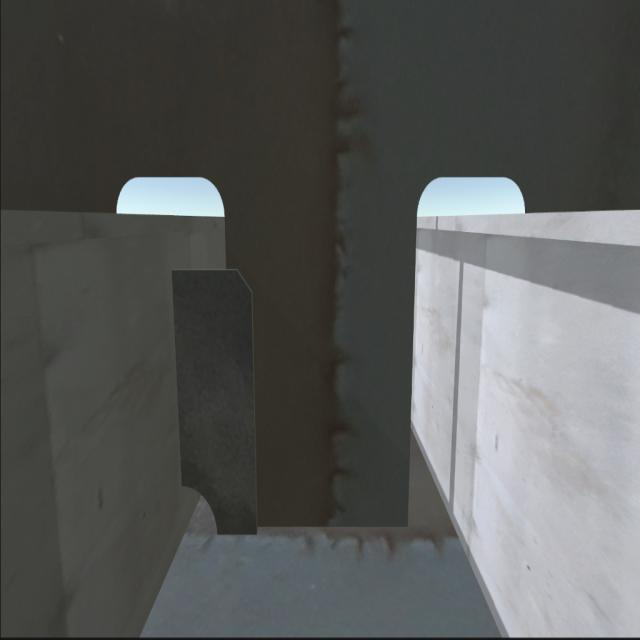fillet_hole: (183, 485, 223, 536)
fillet_yong_jeop_jang: (211, 508, 414, 545)
longi_yong_jeop_jang: (169, 262, 187, 486)
plate_CP03: (176, 268, 256, 532)
